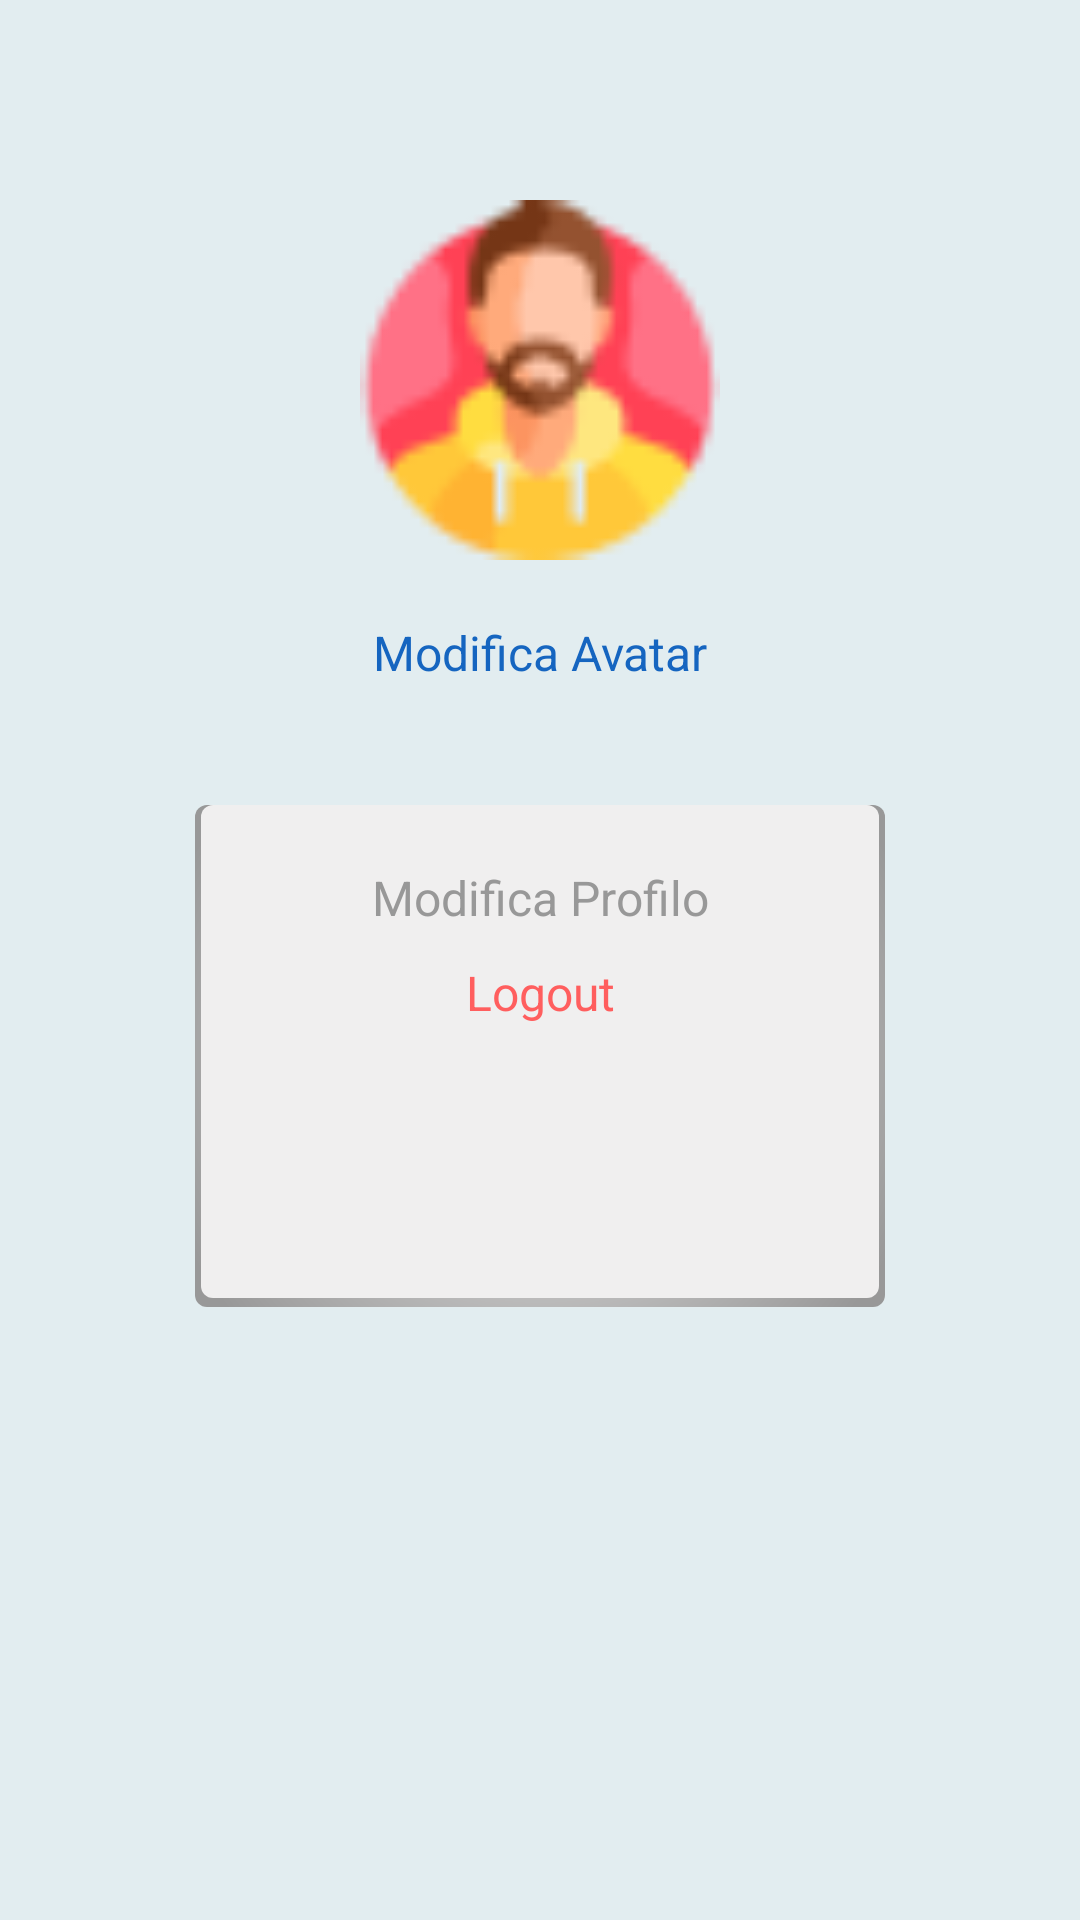

Point at icon controls on the screen. Image size 1080x1920, points as (x=x, y=y).
profile man: (x=537, y=380)
